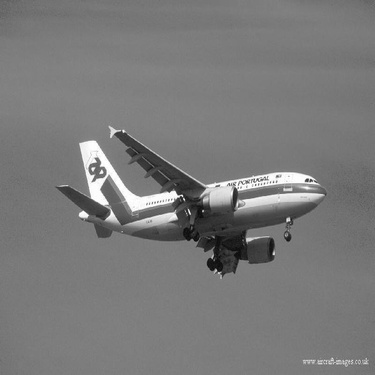airplane: (48, 115, 330, 285)
